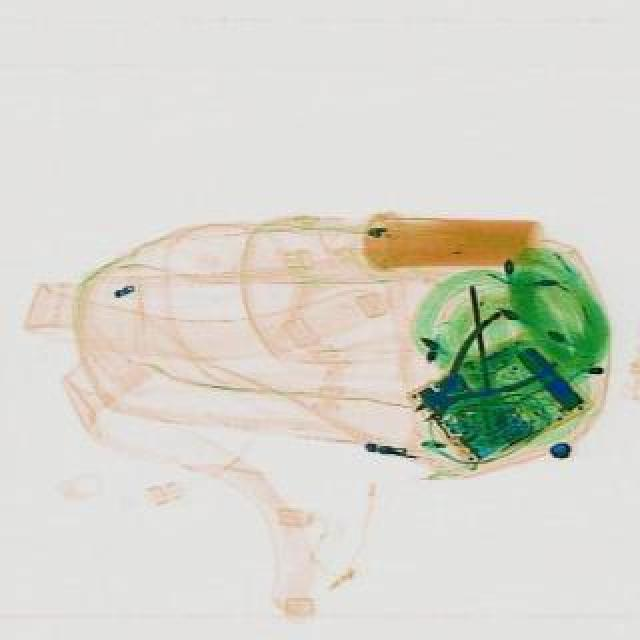wrench: (388, 304, 556, 448)
